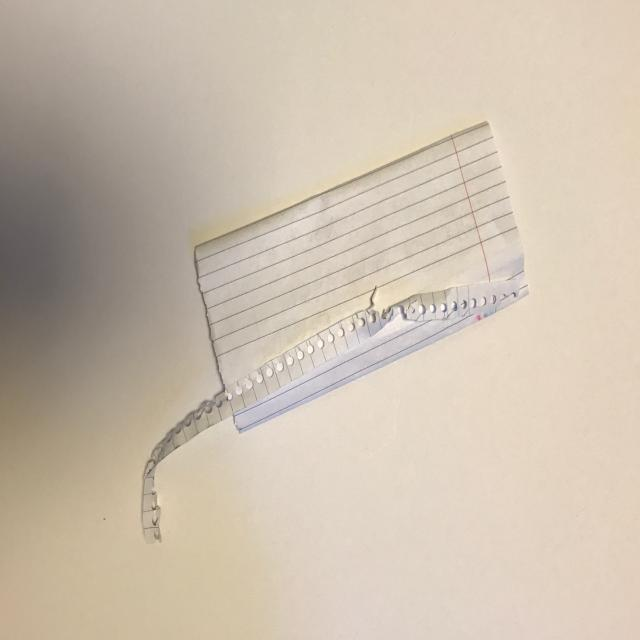paper: (141, 118, 530, 542)
